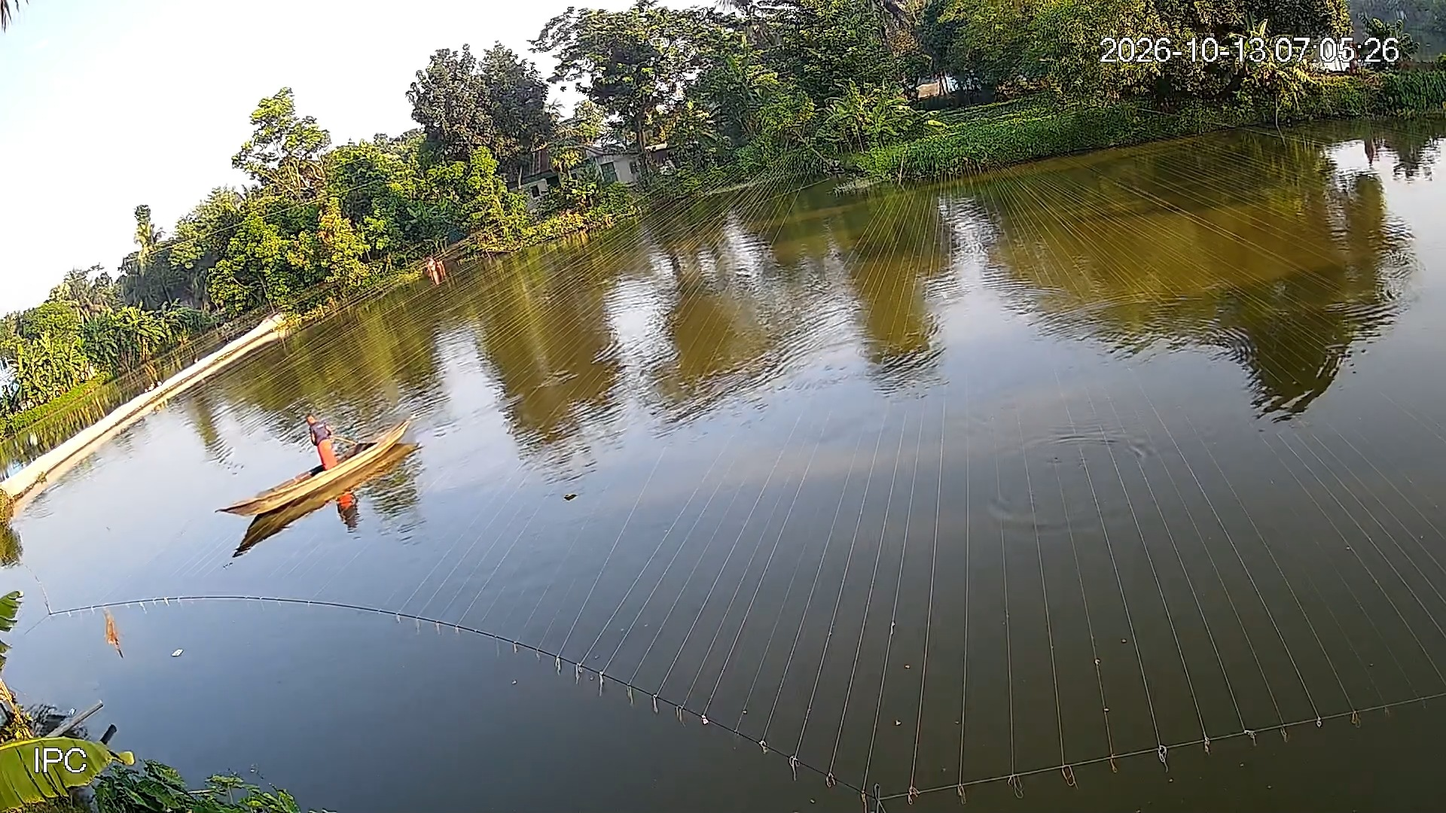Boat: (208, 415, 420, 519)
Human Feeder: (300, 406, 342, 476)
